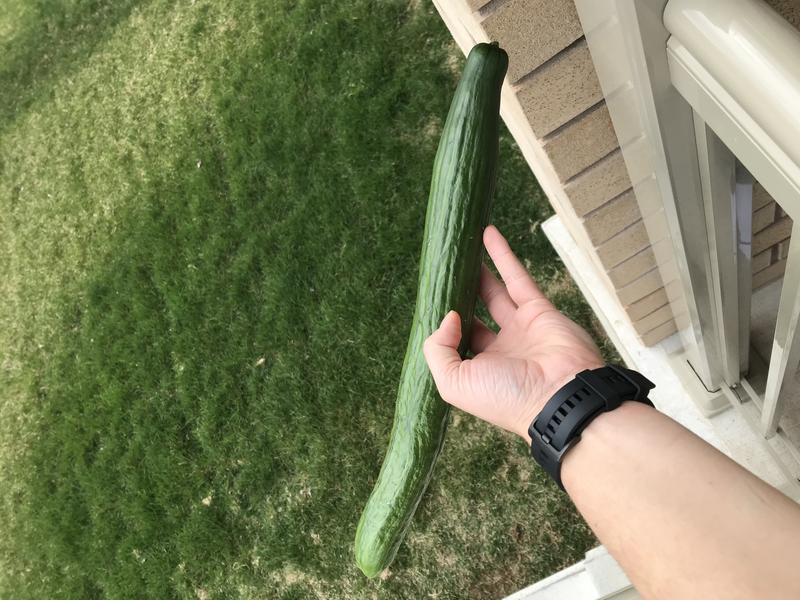cucumber: (342, 32, 518, 587)
